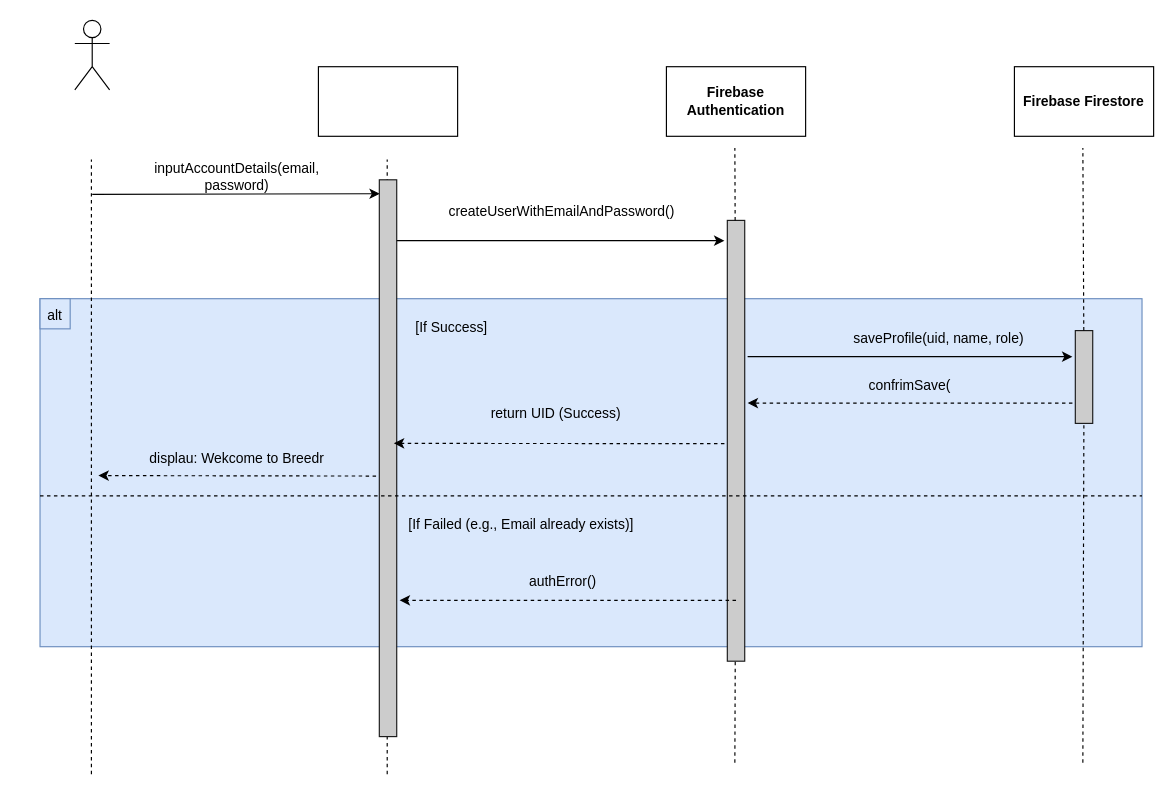
The diagram is 1174 pixels wide and 796 high, and some of its shapes have lost their labels. The shapes that lost their labels are listed below. From the top down, each one's centre as x and y in pixels, then its label:
point (92, 54): Actor Owner/Adoper
point (387, 101): Registration Screen
